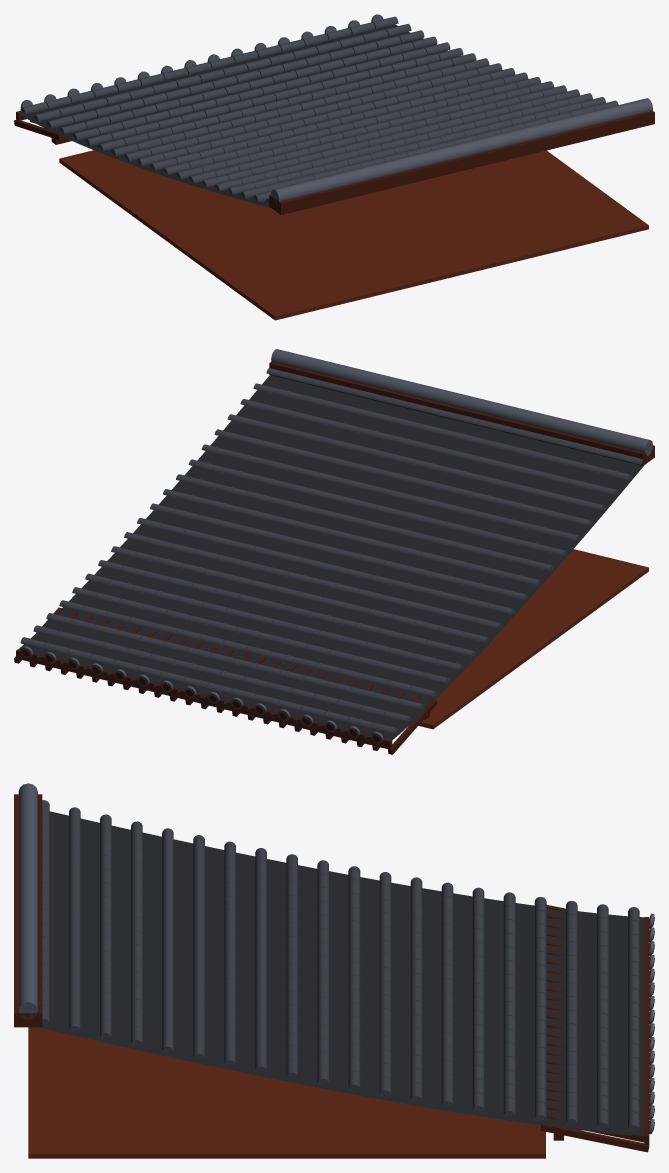
Rendered from pal1-inn-roof-back.glb.
3 renders of one model, top to bottom at view 1: azimuth 30°, elevation 25°; view 2: azimuth 150°, elevation 25°; view 3: azimuth 270°, elevation 25°, orthographic. The views are drawn at different scales.
Visible parts, largest first — view 1: Pal1RoofBack; view 2: Pal1RoofBack; view 3: Pal1RoofBack.
Part boxes in pixels (x1,y1,x2,y2): Pal1RoofBack: (14,14,654,320); Pal1RoofBack: (14,349,654,754); Pal1RoofBack: (14,783,654,1158).
Size of what is drawn, in the model's own units: 4.05 by 1.34 by 4.95.
